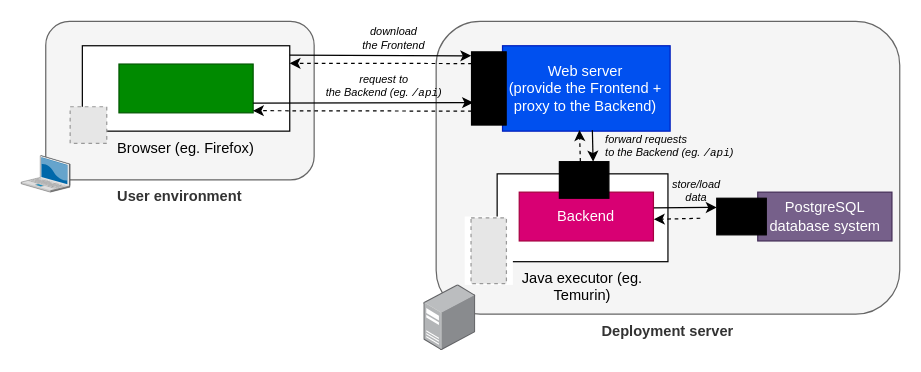
Image size: 921x372. Some labels were removed from this diagram. Grey dashed boxes stand in for pictures. Each missing label, with the centre of its shape:
Frontend: pixel 185 88
Port 5432: pixel 741 216
Port 80: pixel 488 88
Port 8080: pixel 583 179
